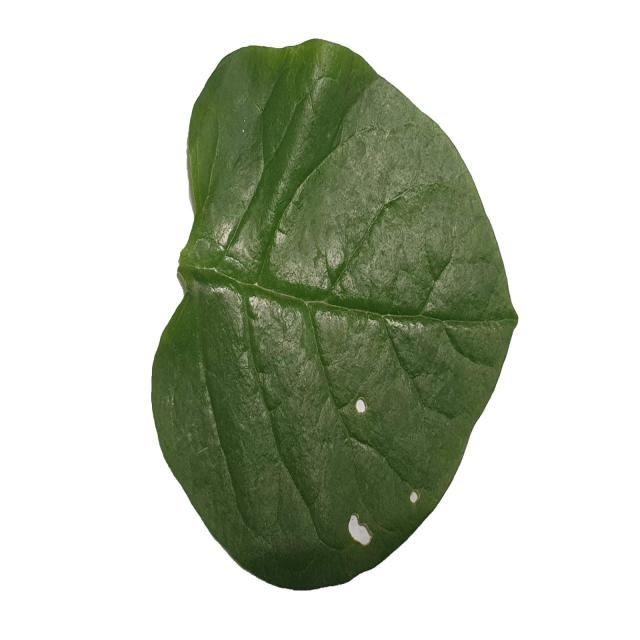Medicinal-Basale: (152, 36, 517, 590)
